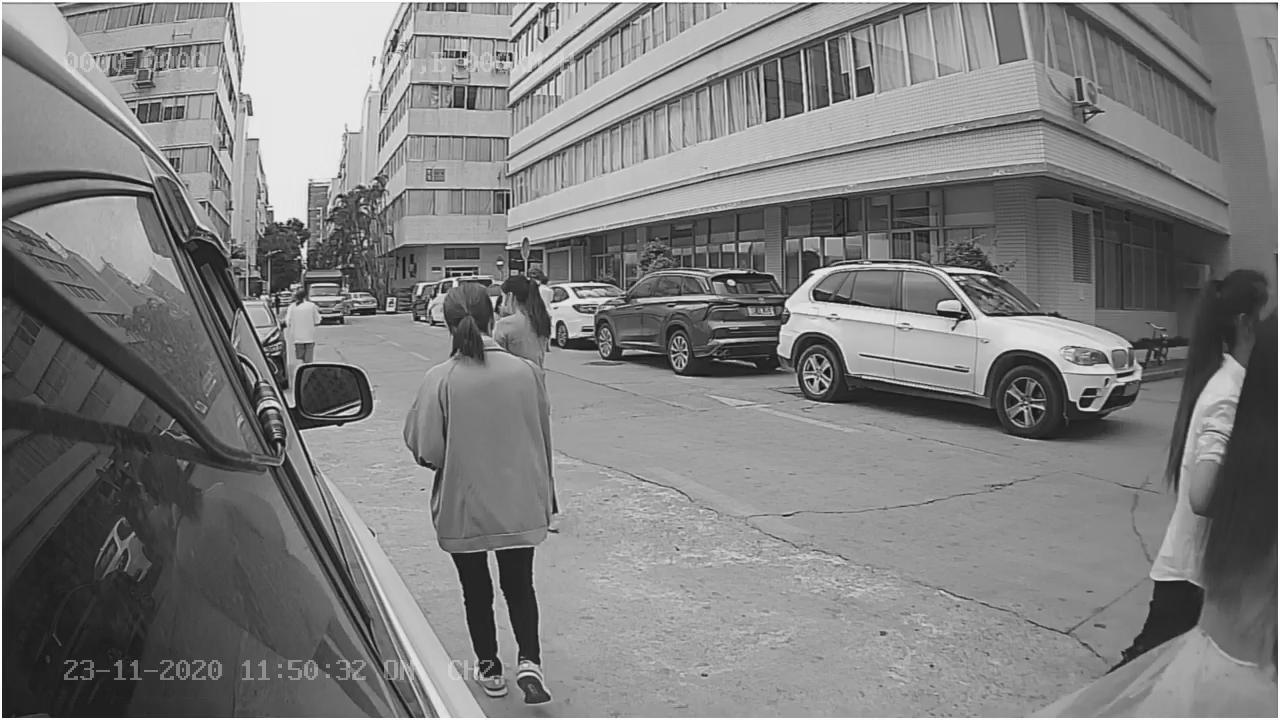person: (398, 265, 559, 498)
